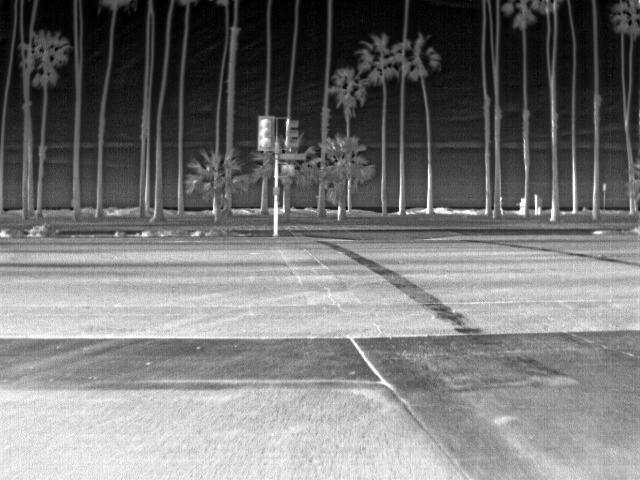person: (517, 194, 527, 216)
